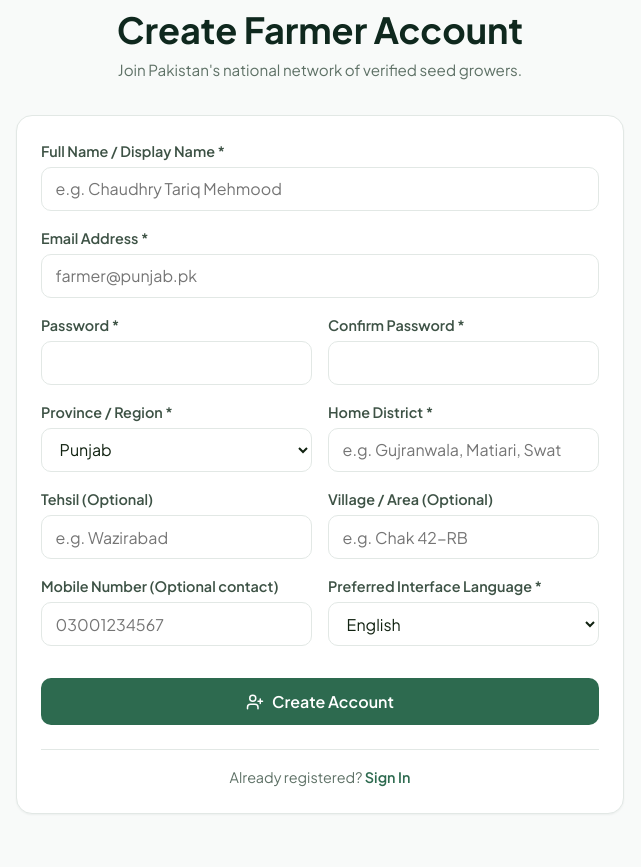
it: Phase 3: Auth & Profiles Test Suite › 1. Registration Validation Flow › validates required fields, password length, and password match
Click the button "Create Account": (320, 702) [41,678,599,725]
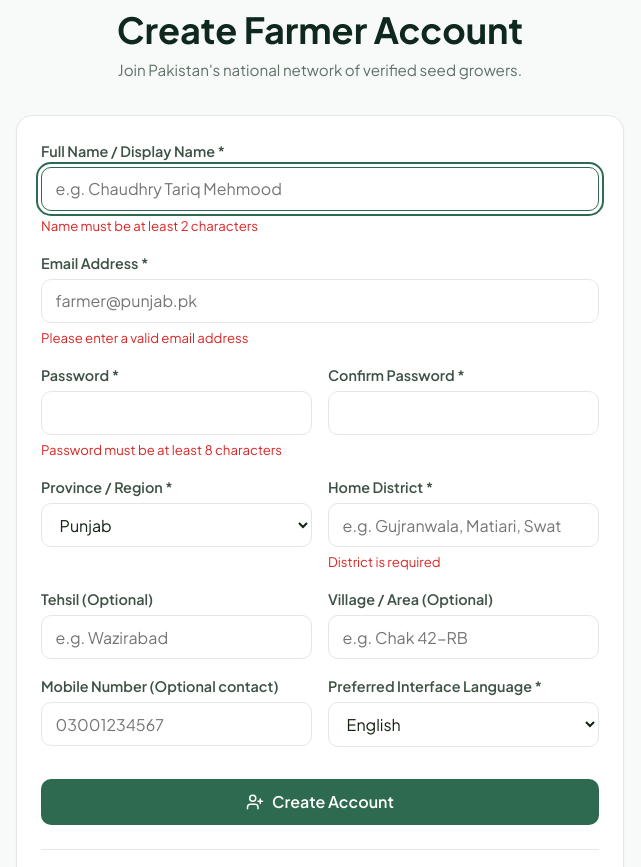
Check: the text "Name must be at least 2 characters" is shown, box [41,217,258,234]
Check: the text "Please enter a valid email address" is shown, box [41,329,248,346]
Check: the text "Password must be at least 8 characters" is shown, box [41,439,312,460]
